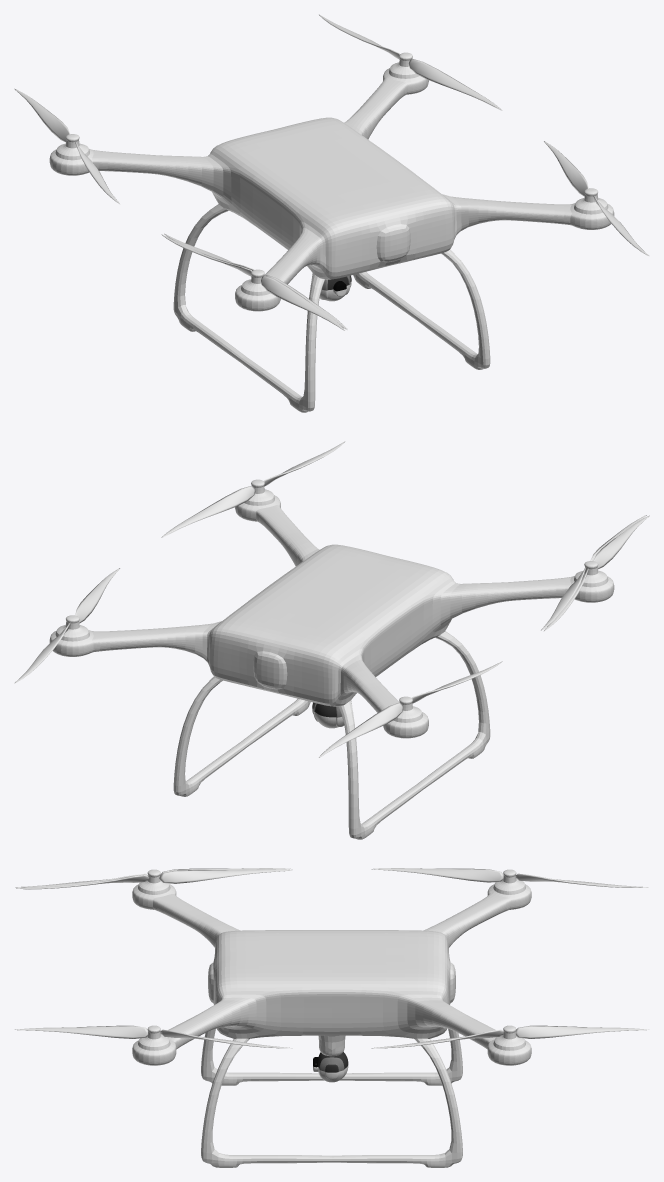
File: drone.fbx
The picture shows the model from 3 angles, top to bottom: view 1: azimuth 30°, elevation 25°; view 2: azimuth 150°, elevation 25°; view 3: azimuth 270°, elevation 25°; orthographic projection. The views are drawn at different scales.
Visible parts, largest first — view 1: drone, wings, wings.004, wings.001; view 2: drone, wings, wings.001, wings.004, wings.002; view 3: drone, wings, wings.002, wings.001, wings.004, caemra.001.
Boxes of the visible parts, left/top/right/bottom form: drone: left=49, top=52, right=614, bottom=412; wings: left=53, top=30, right=649, bottom=330; wings.004: left=319, top=14, right=502, bottom=110; wings.001: left=14, top=88, right=119, bottom=203; drone: left=49, top=479, right=614, bottom=839; wings: left=65, top=441, right=649, bottom=756; wings.001: left=319, top=661, right=502, bottom=757; wings.004: left=14, top=568, right=119, bottom=683; wings.002: left=541, top=515, right=646, bottom=630; drone: left=132, top=869, right=531, bottom=1167; wings: left=15, top=868, right=642, bottom=1048; wings.002: left=16, top=869, right=291, bottom=889; wings.001: left=371, top=868, right=648, bottom=887; wings.004: left=371, top=1025, right=648, bottom=1048; caemra.001: left=313, top=1052, right=348, bottom=1072.
Bounding box in the file's own units: 437 × 200 × 653.
